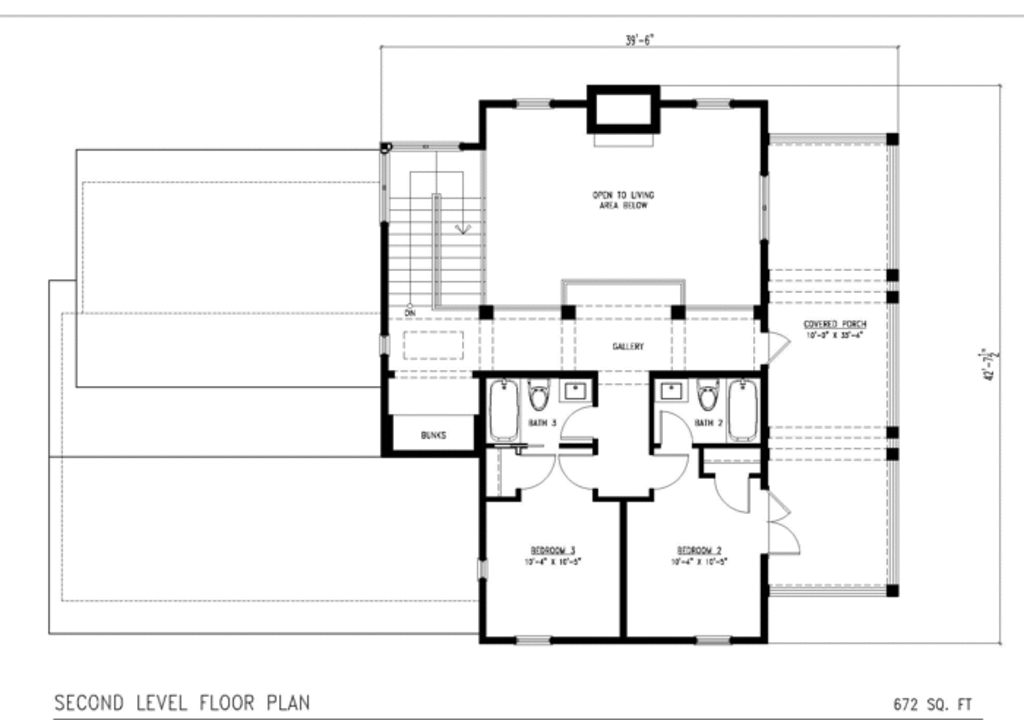door: (764, 487, 802, 559), (557, 450, 599, 493), (710, 473, 755, 513), (657, 407, 699, 448), (517, 450, 557, 493), (648, 452, 692, 491), (557, 406, 602, 442)
large_sink: (524, 376, 552, 417), (693, 378, 721, 412)
stairs: (389, 148, 486, 316)
tub: (480, 375, 523, 445), (722, 374, 760, 443)
windows: (757, 171, 774, 245), (509, 96, 556, 111), (689, 633, 731, 648), (689, 97, 738, 109), (511, 634, 553, 648)
